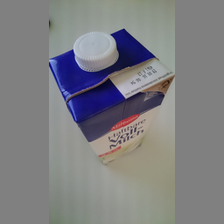milk: (48, 28, 176, 173)
